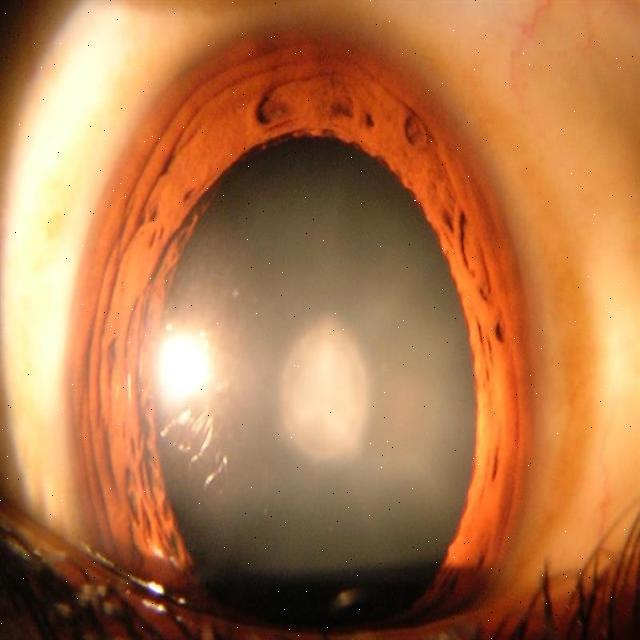Cataract: (71, 35, 543, 638)
